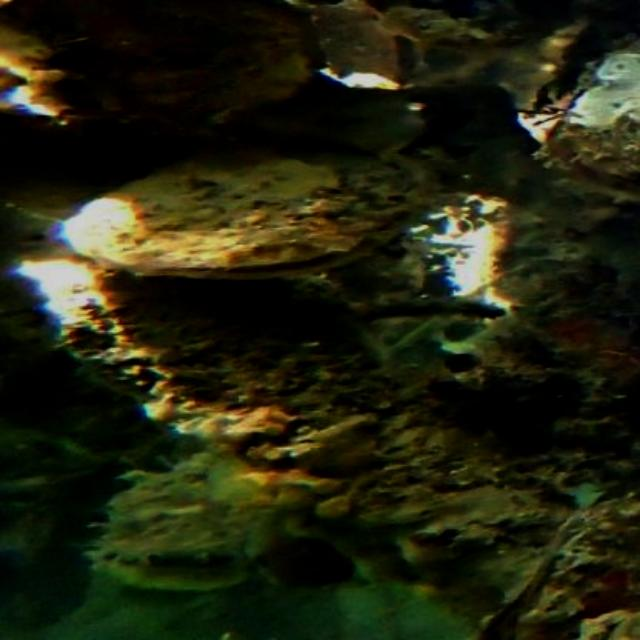Oyster-Closed: (58, 270, 377, 444), (0, 0, 327, 125), (568, 56, 638, 185)
Oyster-Open: (70, 130, 437, 280), (94, 450, 271, 589), (474, 512, 577, 638), (305, 5, 427, 91), (338, 296, 506, 337)
